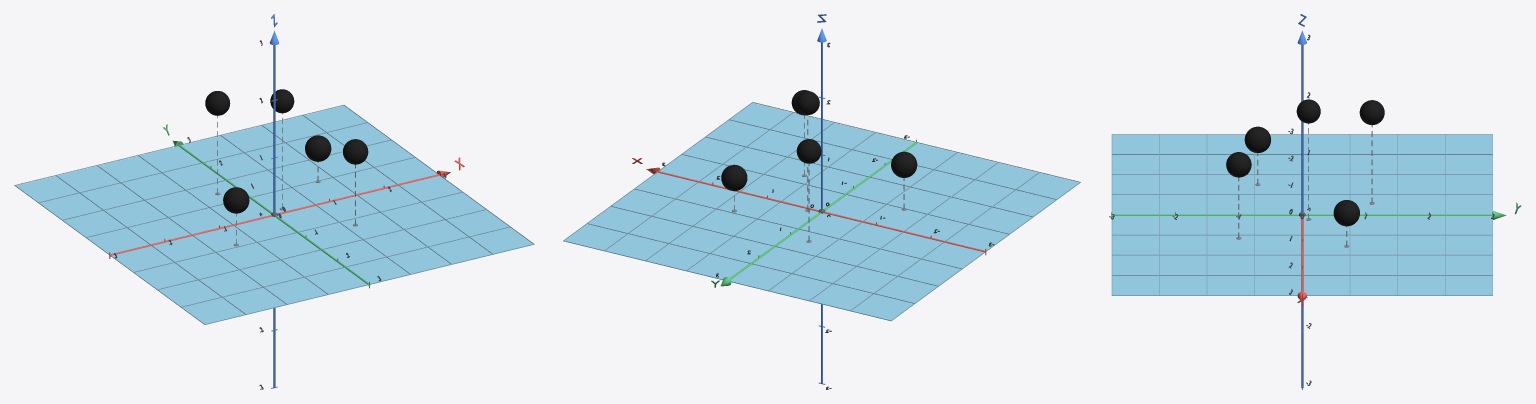
The model's file is 5points_nonsep.glb.
3 renders of one model, left to right at view 1: azimuth 30°, elevation 25°; view 2: azimuth 150°, elevation 25°; view 3: azimuth 270°, elevation 25°, orthographic.
Visible parts, largest first — view 1: Observation_Plane, Grid, Axis_X, Axis_Z, Charge_01_Positive, Charge_04_Negative, Axis_Y, Charge_02_Negative, Charge_03_Positive, Charge_05_Positive; view 2: Observation_Plane, Grid, Axis_X, Charge_04_Negative, Charge_01_Positive, Axis_Y, Charge_03_Positive, Axis_Z, Charge_05_Positive; view 3: Observation_Plane, Grid, Axis_Z, Axis_Y, Charge_04_Negative, Charge_01_Positive, Charge_02_Negative, Charge_03_Positive, Charge_05_Positive.
Boxes of the visible parts, x1,y1,x2,y2 form: Observation_Plane: (16,105,533,324); Grid: (14,105,534,324); Axis_X: (110,174,439,256); Axis_Z: (273,45,275,387); Charge_01_Positive: (223,187,249,213); Charge_04_Negative: (305,135,331,161); Axis_Y: (178,145,370,285); Charge_02_Negative: (343,139,368,164); Charge_03_Positive: (205,91,230,115); Charge_05_Positive: (270,89,294,113); Observation_Plane: (564,103,1078,321); Grid: (563,102,1080,320); Axis_X: (658,171,985,252); Charge_04_Negative: (721,164,747,190); Charge_01_Positive: (891,151,917,177); Axis_Y: (730,142,917,279); Charge_03_Positive: (796,139,821,163); Axis_Z: (821,42,822,383); Charge_05_Positive: (796,91,819,114); Observation_Plane: (1112,135,1492,295); Grid: (1111,134,1492,295); Axis_Z: (1301,44,1303,388); Axis_Y: (1112,214,1492,215); Charge_04_Negative: (1333,200,1359,226); Charge_01_Positive: (1244,126,1270,152); Charge_02_Negative: (1226,152,1251,177); Charge_03_Positive: (1359,100,1384,125); Charge_05_Positive: (1296,99,1320,123).
Bounding box in the file's own units: 6.51 × 6.5 × 6.5.
